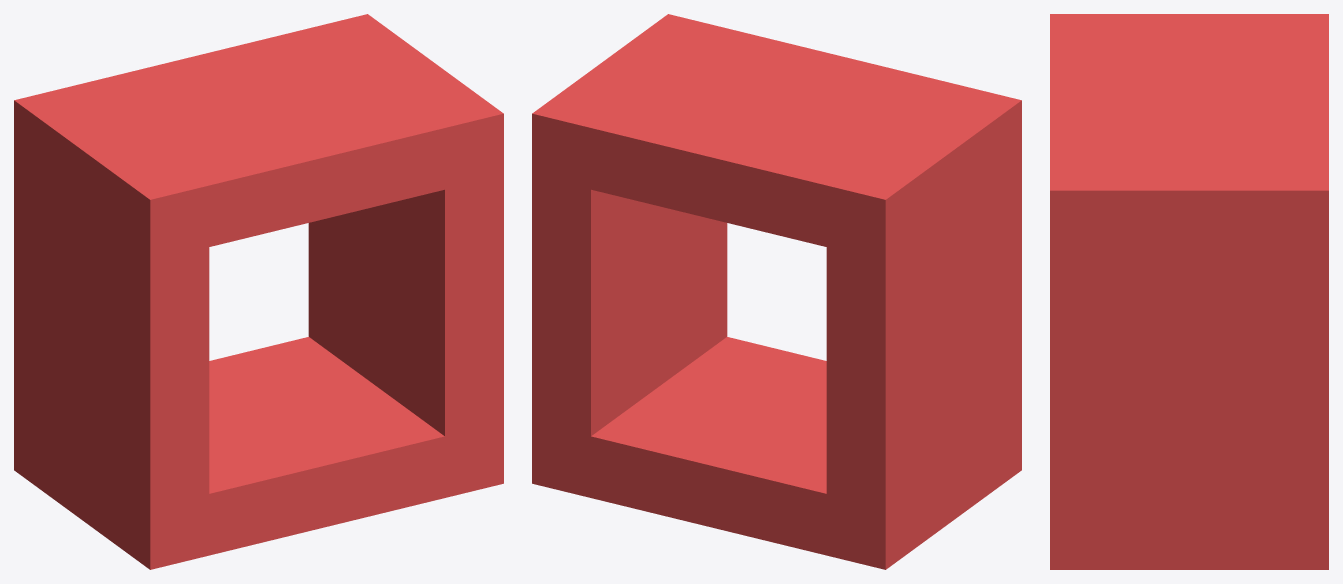
The model's file is sqhollow.glb.
3 renders of one model, left to right at view 1: azimuth 30°, elevation 25°; view 2: azimuth 150°, elevation 25°; view 3: azimuth 270°, elevation 25°, orthographic. The views are drawn at different scales.
Size of the model in its own units: 150 by 150 by 100.
